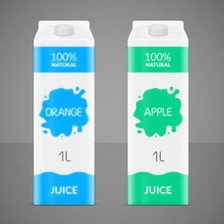carton: (26, 17, 101, 208), (122, 17, 195, 209)
